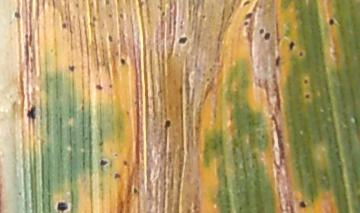tarspot: (25, 103, 37, 120), (55, 200, 68, 212), (161, 117, 173, 130), (177, 35, 190, 46), (284, 199, 294, 213), (12, 9, 22, 22), (97, 157, 109, 167), (109, 171, 122, 180), (65, 64, 78, 73), (273, 54, 281, 67), (287, 39, 295, 52), (105, 33, 115, 43), (243, 11, 254, 20), (263, 31, 272, 42), (94, 83, 103, 93), (59, 20, 67, 31), (117, 10, 125, 21), (241, 1, 253, 8), (88, 22, 97, 31), (298, 199, 306, 209), (132, 185, 139, 196), (136, 1, 145, 9), (119, 57, 126, 67), (121, 159, 129, 167), (90, 14, 98, 22), (301, 78, 309, 86), (304, 92, 311, 101), (97, 141, 106, 148), (297, 51, 305, 58), (328, 17, 334, 26), (160, 10, 166, 19), (16, 191, 23, 198), (103, 1, 110, 7), (73, 2, 79, 9), (113, 151, 119, 158), (125, 109, 130, 117), (242, 21, 249, 26), (107, 82, 112, 89), (107, 11, 111, 19), (257, 28, 263, 33)
